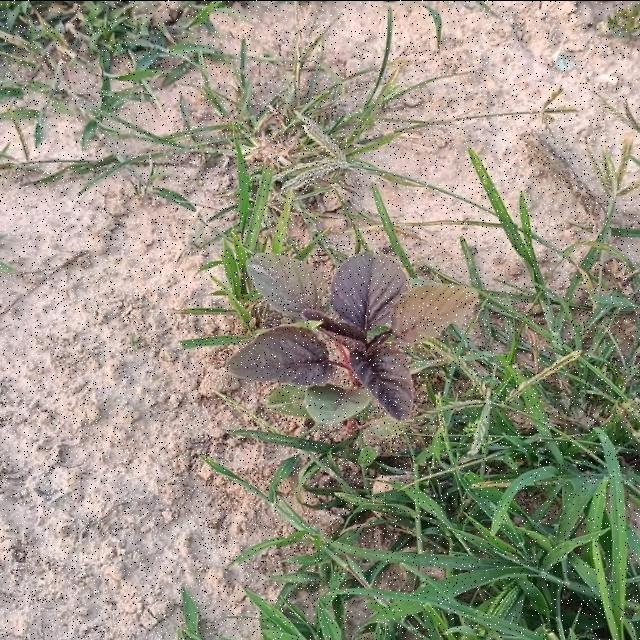plant: (227, 251, 480, 422)
